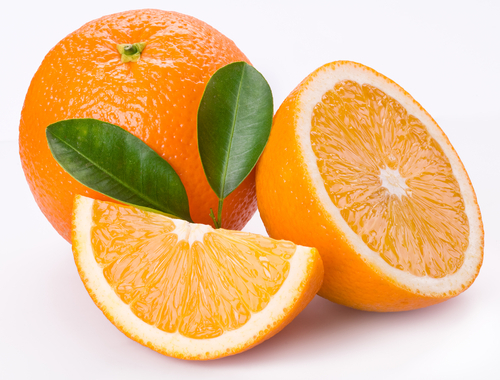orange: (16, 6, 282, 270)
